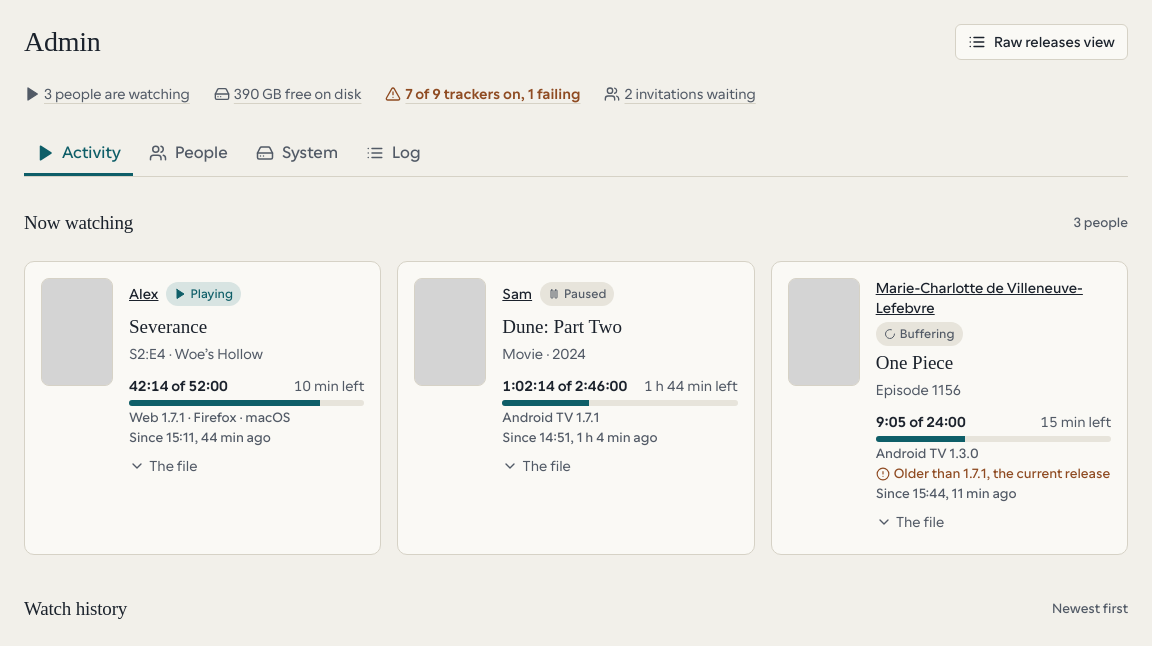
Test: admin page › opens on the activity; a tab changes the view, kept in the URL and remembered
Check: the heading "Admin" is shown, box [24,25,100,59]
Check: the element "Now watching" is shown, box [24,201,1128,555]
What coordinates should you click on to do the following:
click the tab "System"
I would click on:
 (297, 154)
Its box is [244,132,350,176].
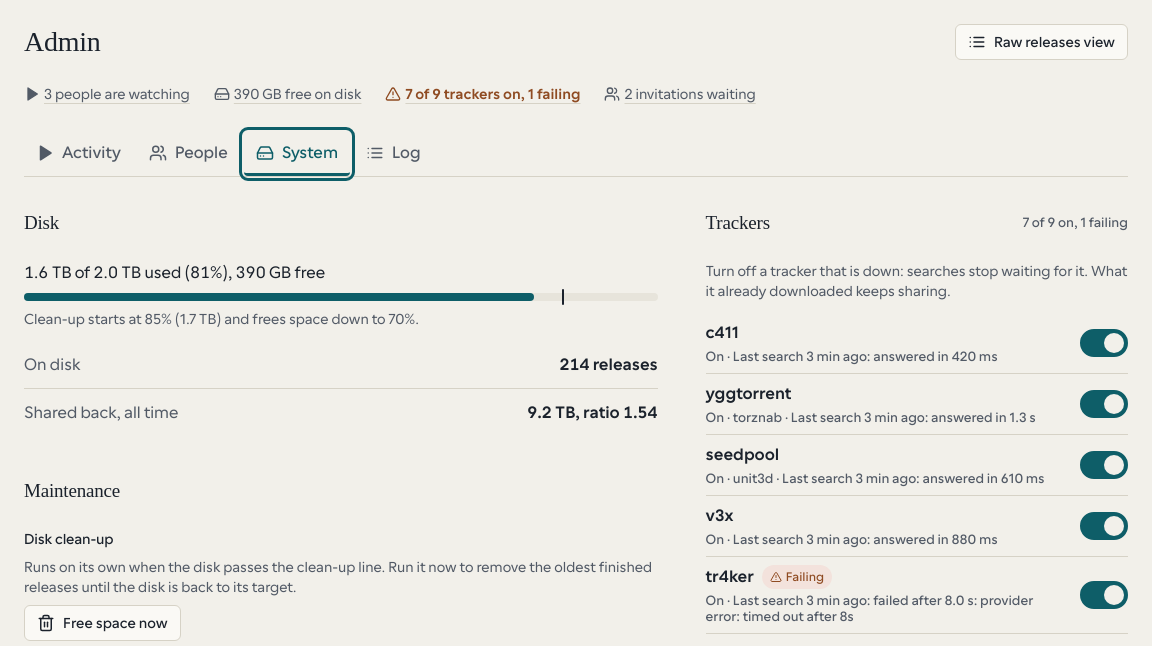
Check: the element "Disk" is shown, box [24,201,658,437]
